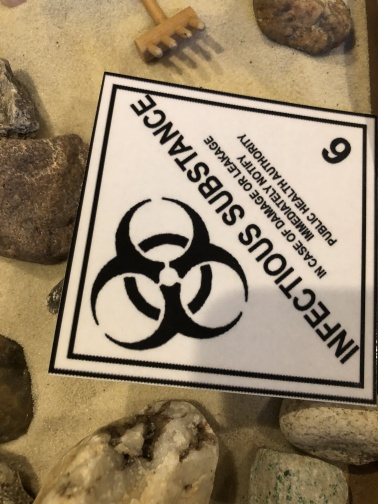InfectiousSubstance: (52, 71, 378, 405)
